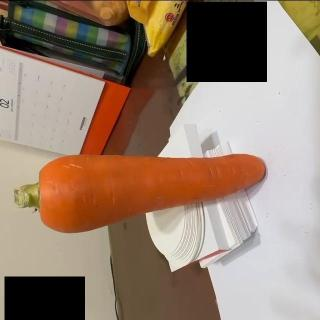carrot: (14, 153, 267, 234)
